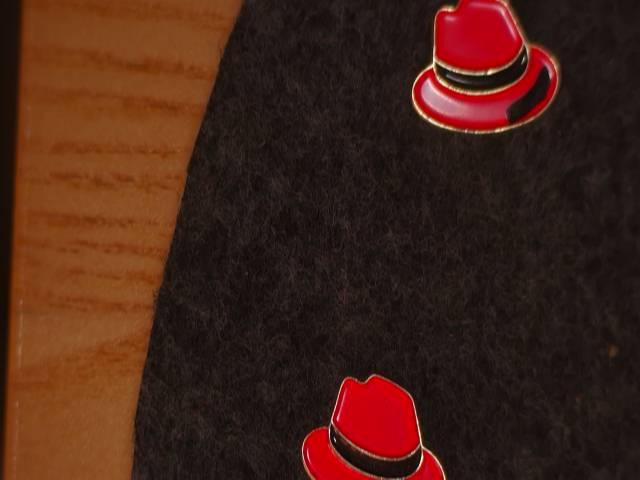Red-Hat: (394, 0, 580, 165), (279, 359, 475, 480)
Scratch: (496, 54, 570, 126)
